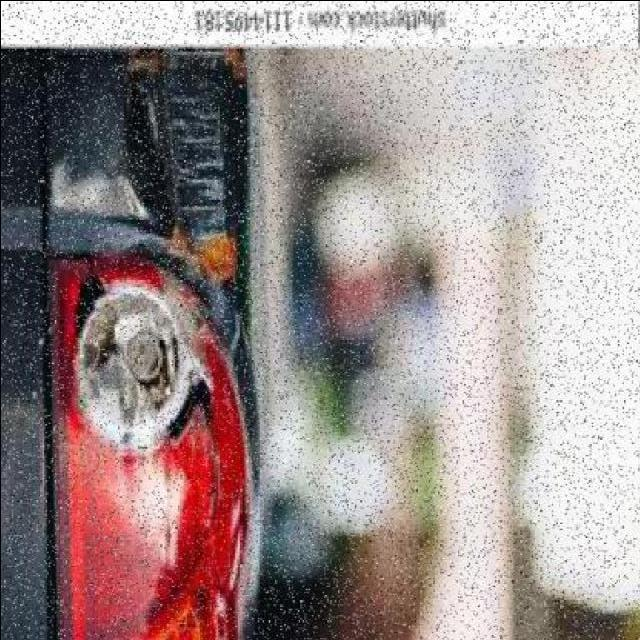Taillight-Damage: (26, 43, 249, 640)
